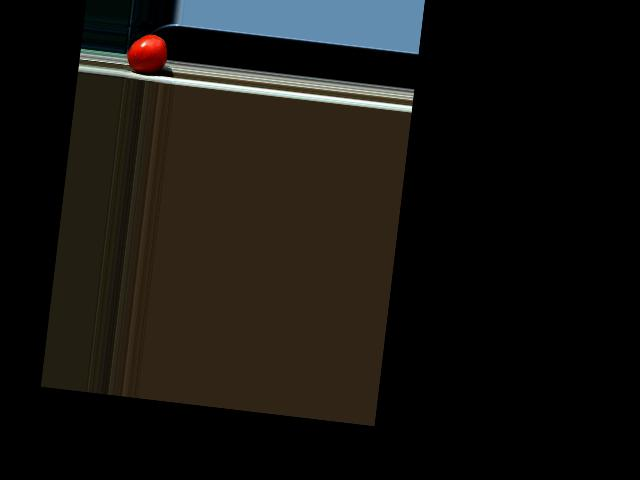tomato: (126, 31, 169, 75)
